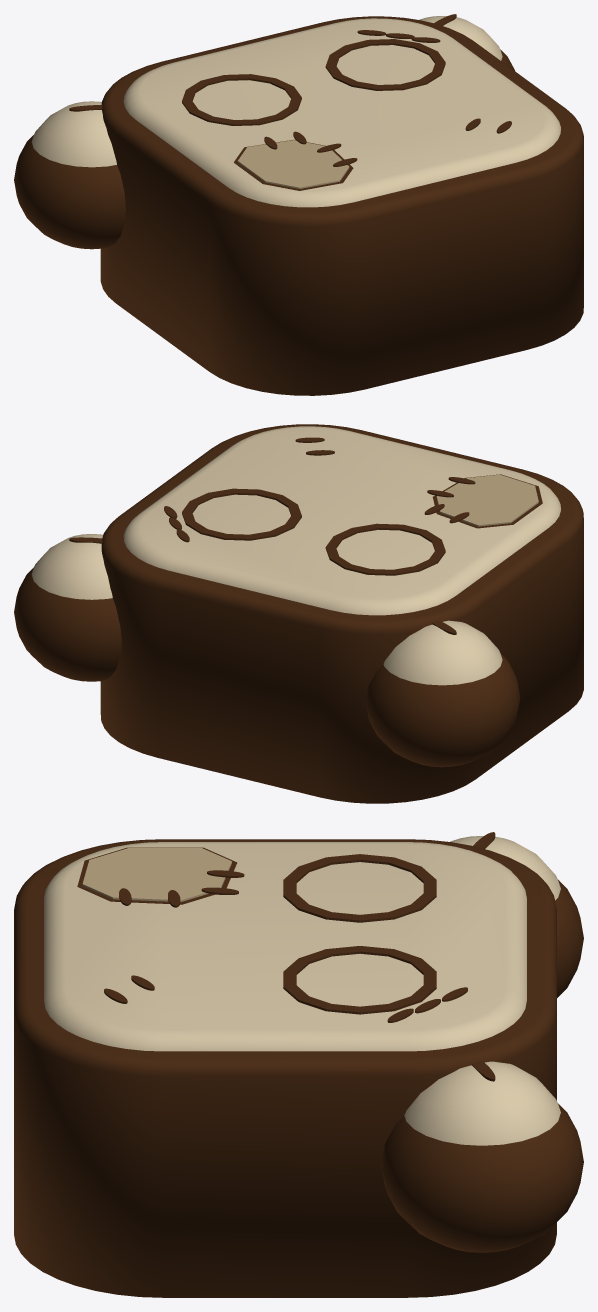
Rendered from body_estampa_vudu.fbx.
3 views of the same model, one above another, from view 1: azimuth 30°, elevation 25°; view 2: azimuth 150°, elevation 25°; view 3: azimuth 270°, elevation 25° (orthographic). The views are drawn at different scales.
Visible parts, largest first — view 1: body_estampa_vudu_corpo, body_estampa_vudu_mao_esq, body_estampa_vudu_mao; view 2: body_estampa_vudu_corpo, body_estampa_vudu_mao_esq, body_estampa_vudu_mao; view 3: body_estampa_vudu_corpo, body_estampa_vudu_mao, body_estampa_vudu_mao_esq.
Boxes of the visible parts, left/top/right/bottom form: body_estampa_vudu_corpo: left=100, top=16, right=583, bottom=395; body_estampa_vudu_mao_esq: left=14, top=101, right=125, bottom=249; body_estampa_vudu_mao: left=419, top=14, right=514, bottom=70; body_estampa_vudu_corpo: left=100, top=424, right=583, bottom=803; body_estampa_vudu_mao_esq: left=366, top=620, right=520, bottom=767; body_estampa_vudu_mao: left=14, top=534, right=121, bottom=681; body_estampa_vudu_corpo: left=14, top=839, right=556, bottom=1297; body_estampa_vudu_mao: left=381, top=1060, right=583, bottom=1252; body_estampa_vudu_mao_esq: left=450, top=832, right=583, bottom=997.
Size of the model in its own units: 5.4 by 2.03 by 4.2.
1 material, 1 textured.
